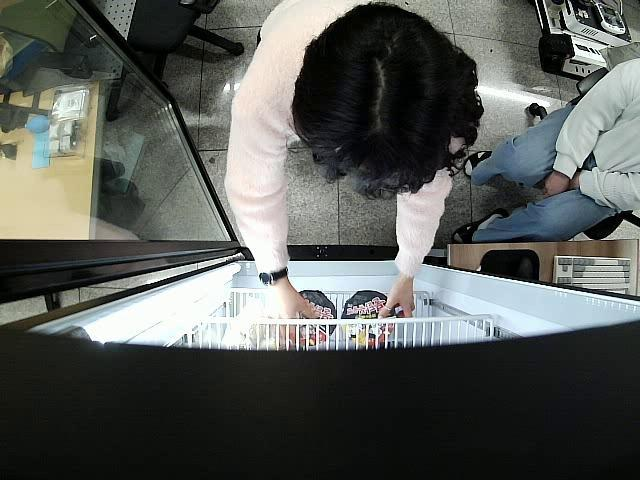07_buldak_L: (343, 290, 396, 346), (288, 290, 338, 344)
